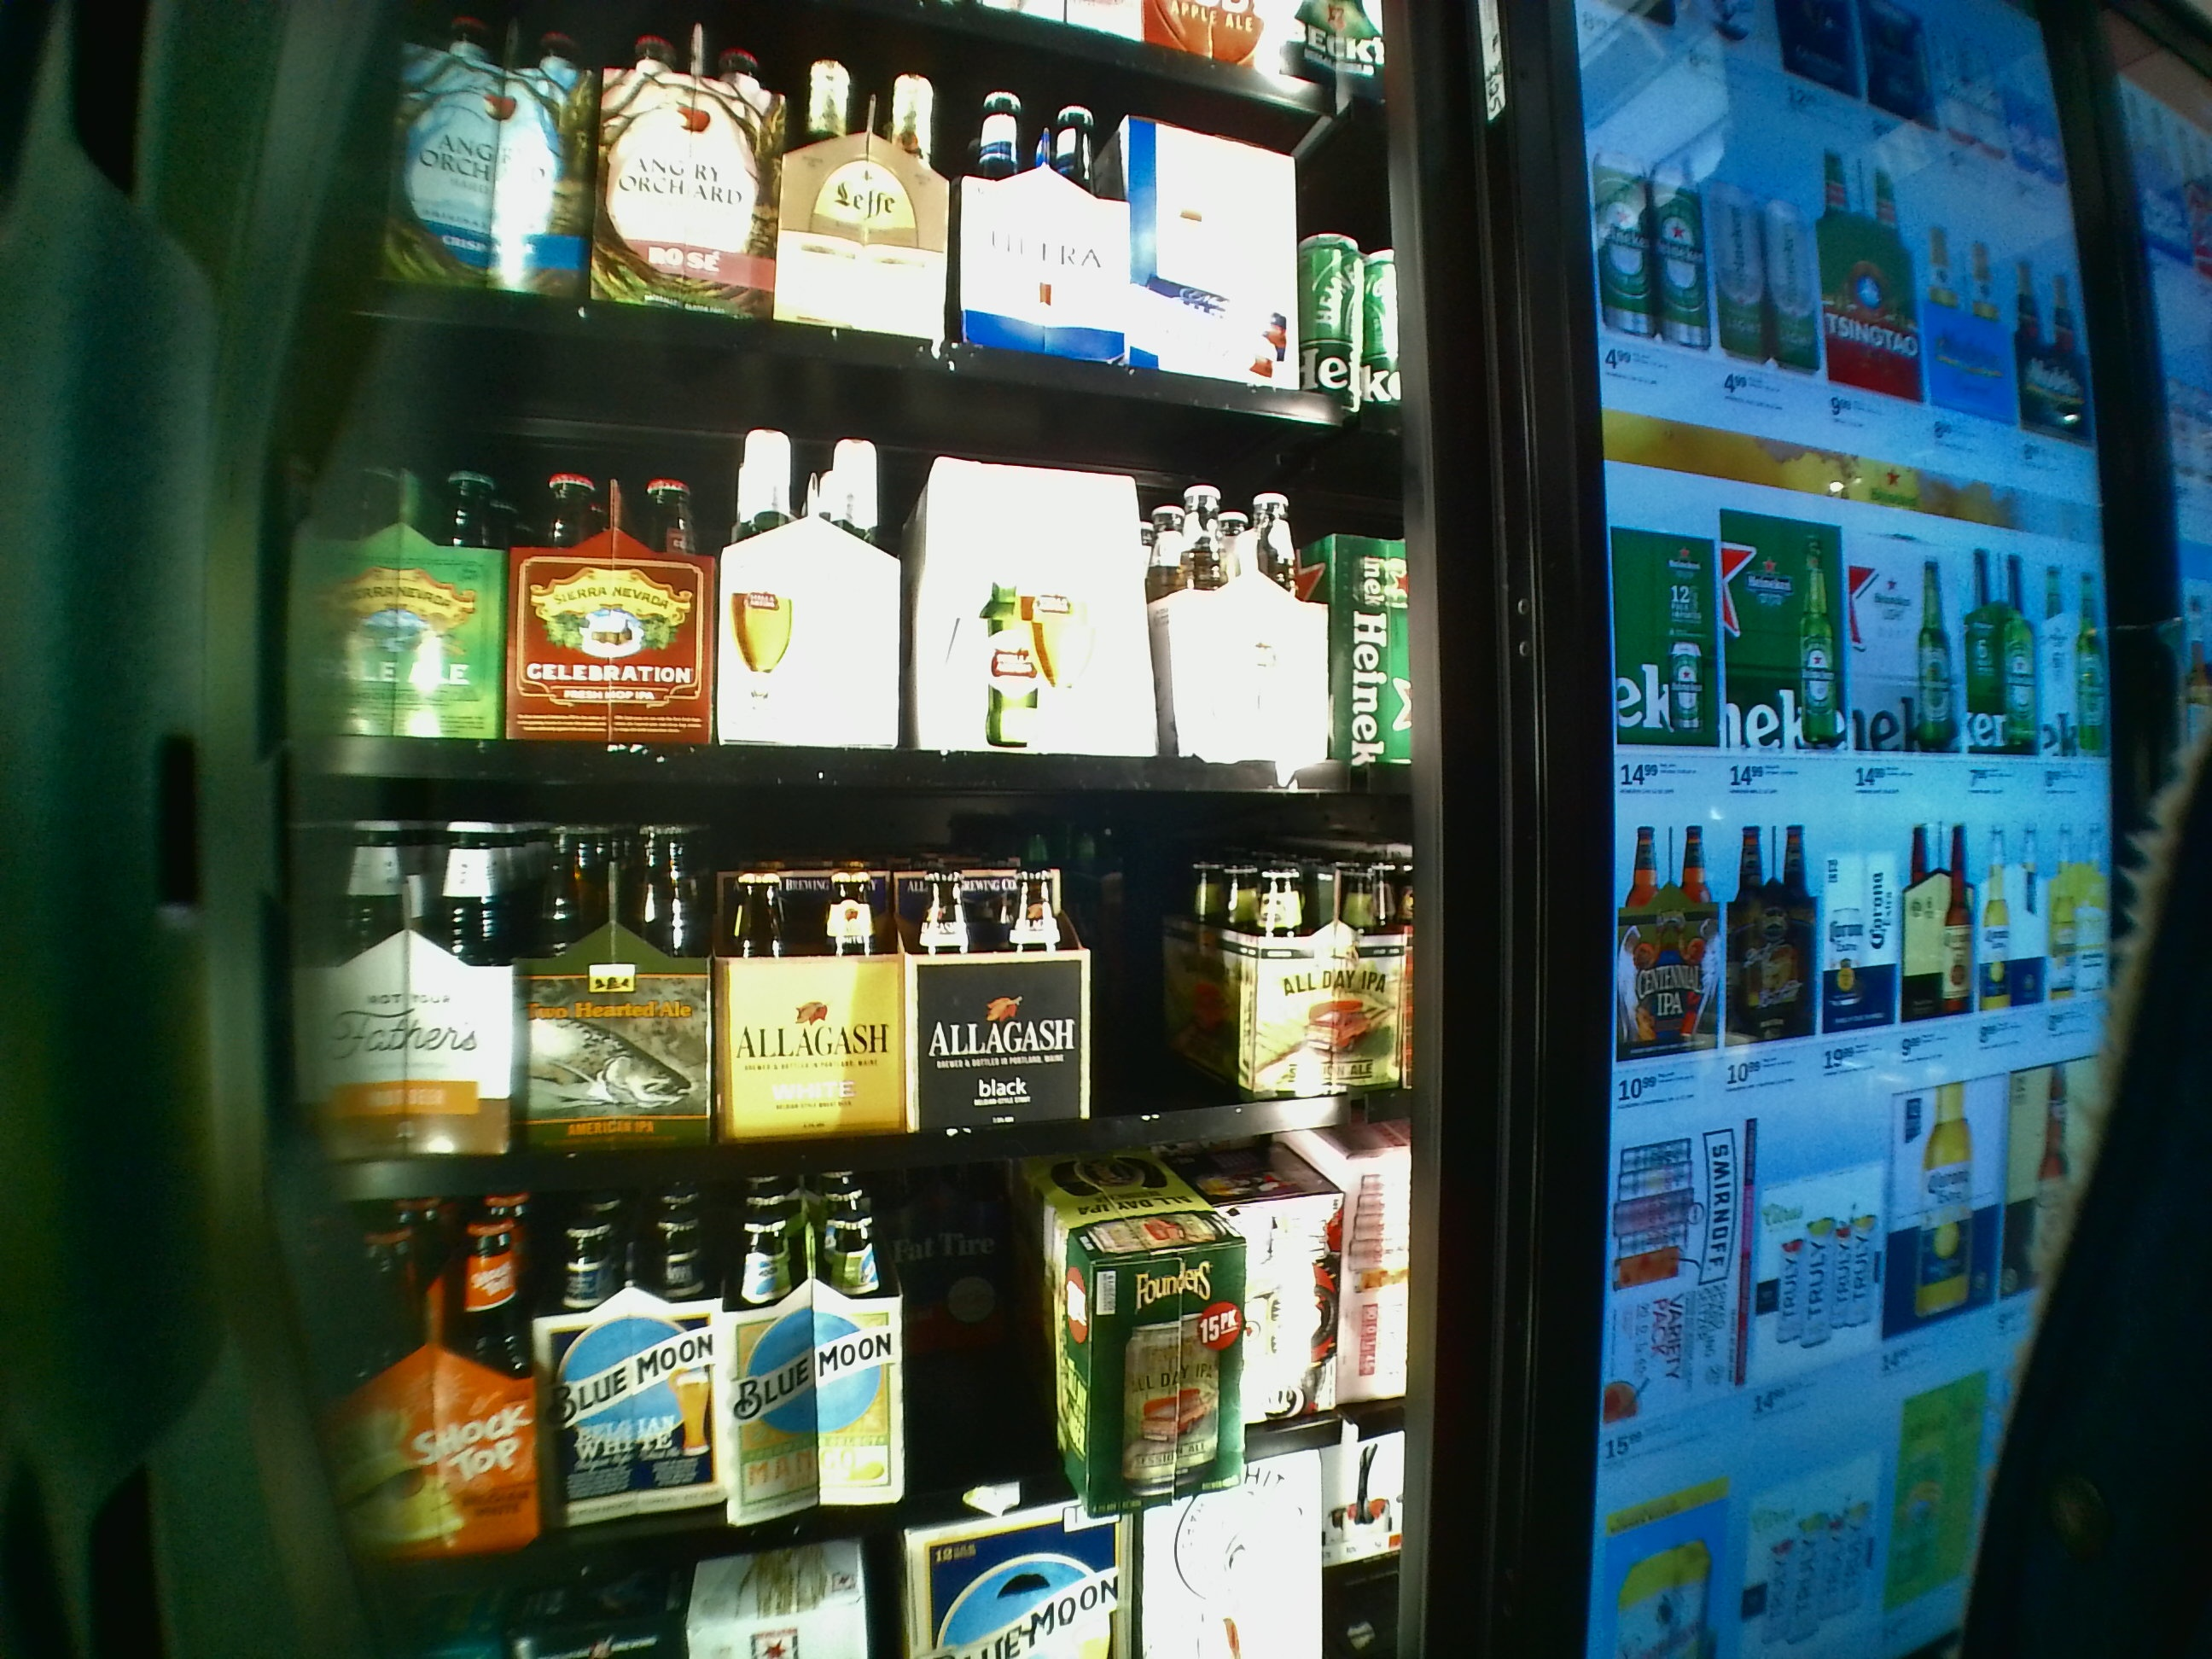shelf: (286, 324, 1407, 788), (289, 798, 1413, 1211)
